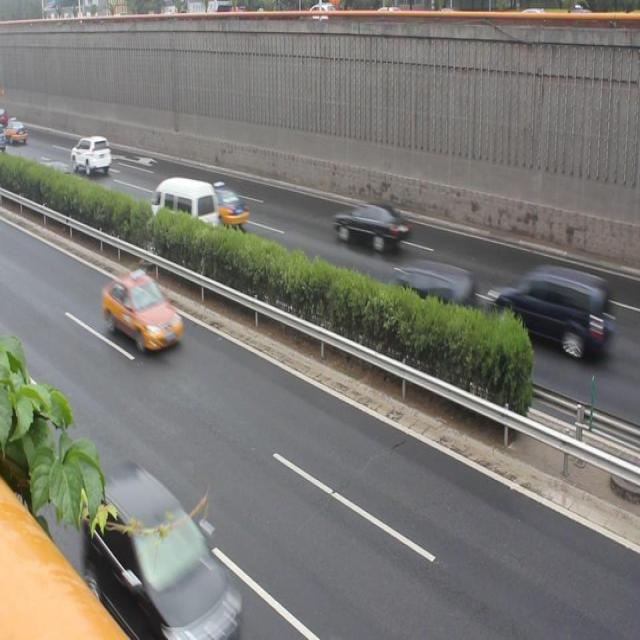car: (79, 458, 238, 640), (389, 254, 486, 337), (102, 262, 184, 360), (328, 198, 412, 254), (203, 180, 250, 228)
truck: (490, 262, 613, 364), (152, 174, 222, 241)
